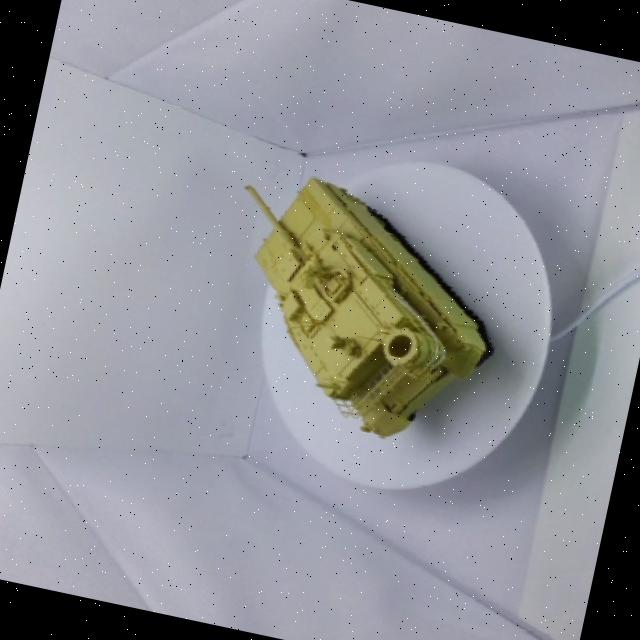korea tank: (177, 122, 538, 476)
